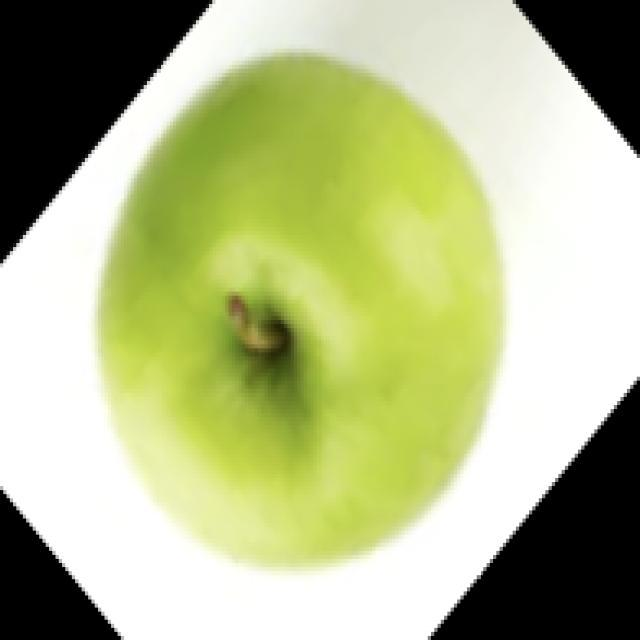Fresh Apple: (98, 48, 495, 577)
